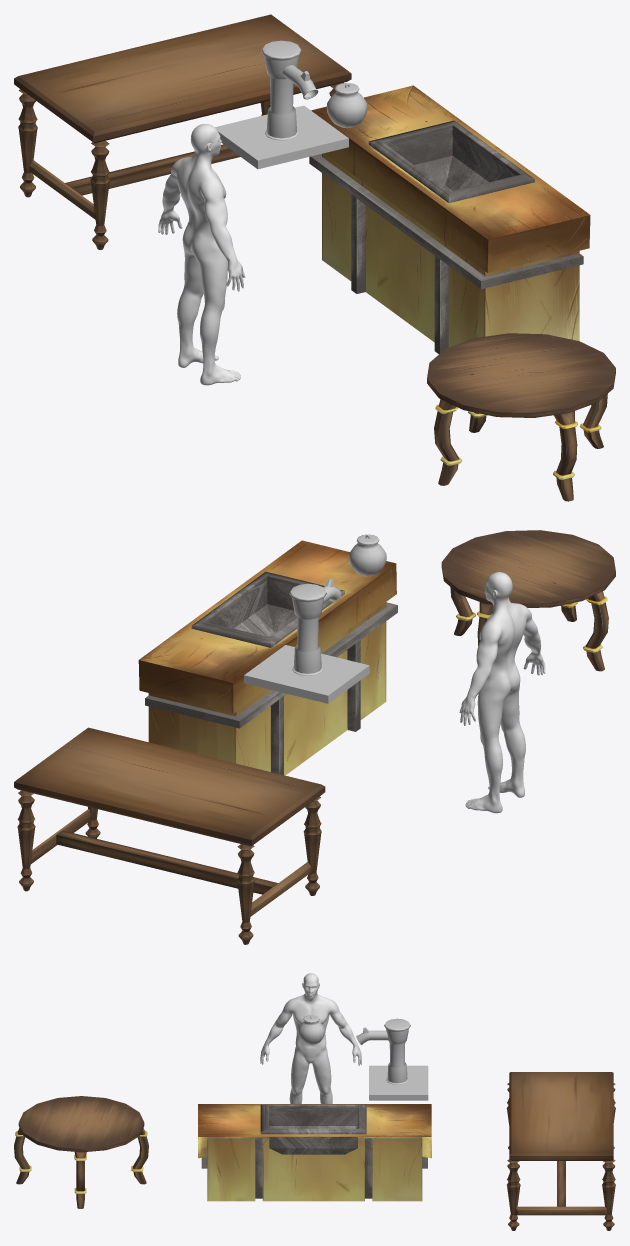
File: Models.fbx
The picture shows the model from 3 angles, top to bottom: view 1: azimuth 30°, elevation 25°; view 2: azimuth 150°, elevation 25°; view 3: azimuth 270°, elevation 25°; orthographic projection. The views are drawn at different scales.
Parts seen in each view (by area): view 1: Aanrecht, Table_1, Table_2, model_size:Group1, pCube4, pCylinder2, Balk_Midden, Poot_3, Poot1, Poot_4, Poot4, Ketel (+2 smaller); view 2: Aanrecht, Table_1, Table_2, model_size:Group1, pCube4, Balk_Midden, pCylinder2, Poot_4, Poot_1, Poot_3, Poot4, Ketel (+3 smaller); view 3: Aanrecht, Table_1, Table_2, model_size:Group1, pCube4, pCylinder2, Balk_1, Poot_2, Poot_1, Poot2, Poot1, Poot3 (+2 smaller).
Boxes of the visible parts, x1,y1,x2,y2 form: Aanrecht: [309, 85, 590, 353]; Table_1: [14, 14, 351, 143]; Table_2: [427, 333, 615, 417]; model_size:Group1: [158, 124, 245, 385]; pCube4: [215, 105, 348, 169]; pCylinder2: [261, 40, 301, 140]; Balk_Midden: [65, 144, 240, 195]; Poot_3: [90, 140, 109, 249]; Poot1: [553, 411, 577, 501]; Poot_4: [18, 89, 37, 197]; Poot4: [434, 399, 461, 485]; Ketel: [326, 89, 367, 128]; Aanrecht: [138, 540, 397, 775]; Table_1: [14, 727, 325, 846]; Table_2: [441, 530, 615, 607]; model_size:Group1: [459, 572, 545, 813]; pCube4: [244, 645, 369, 703]; Balk_Midden: [56, 830, 278, 894]; pCylinder2: [289, 583, 326, 675]; Poot_4: [237, 844, 254, 944]; Poot_1: [17, 790, 35, 891]; Poot_3: [303, 796, 321, 895]; Poot4: [583, 591, 608, 671]; Ketel: [349, 540, 386, 576]; Aanrecht: [198, 1104, 431, 1201]; Table_1: [509, 1072, 613, 1160]; Table_2: [18, 1096, 144, 1152]; model_size:Group1: [260, 973, 361, 1103]; pCube4: [369, 1065, 428, 1100]; pCylinder2: [384, 1018, 410, 1084]; Balk_1: [515, 1206, 607, 1215]; Poot_2: [507, 1159, 520, 1230]; Poot_1: [602, 1160, 615, 1230]; Poot2: [74, 1152, 86, 1208]; Poot1: [14, 1128, 31, 1184]; Poot3: [131, 1128, 148, 1184].
Bounding box in the file's own units: 27.97 × 21.35 × 69.2.
